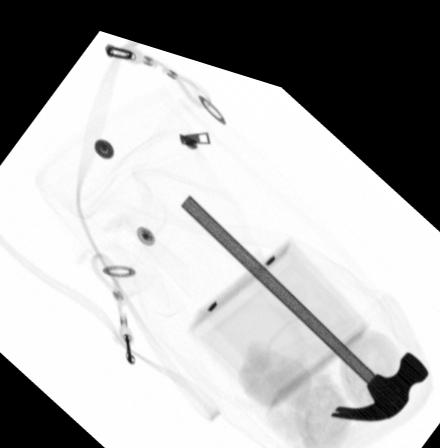Hammer: (179, 181, 428, 398)
